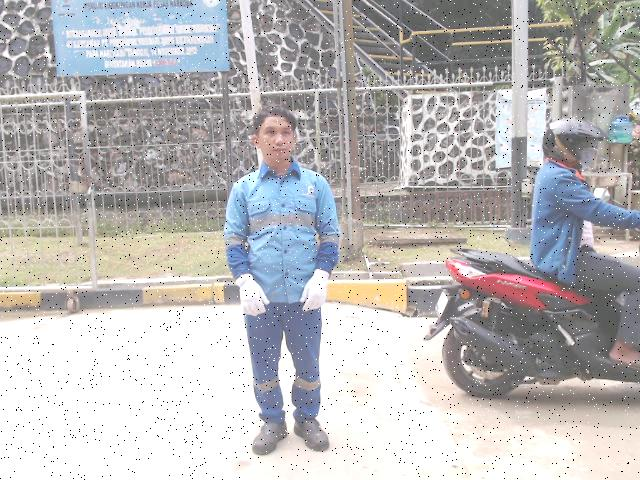gloves: (231, 271, 274, 320), (295, 265, 332, 315)
safety-shoes: (248, 415, 291, 460), (291, 414, 335, 454)
